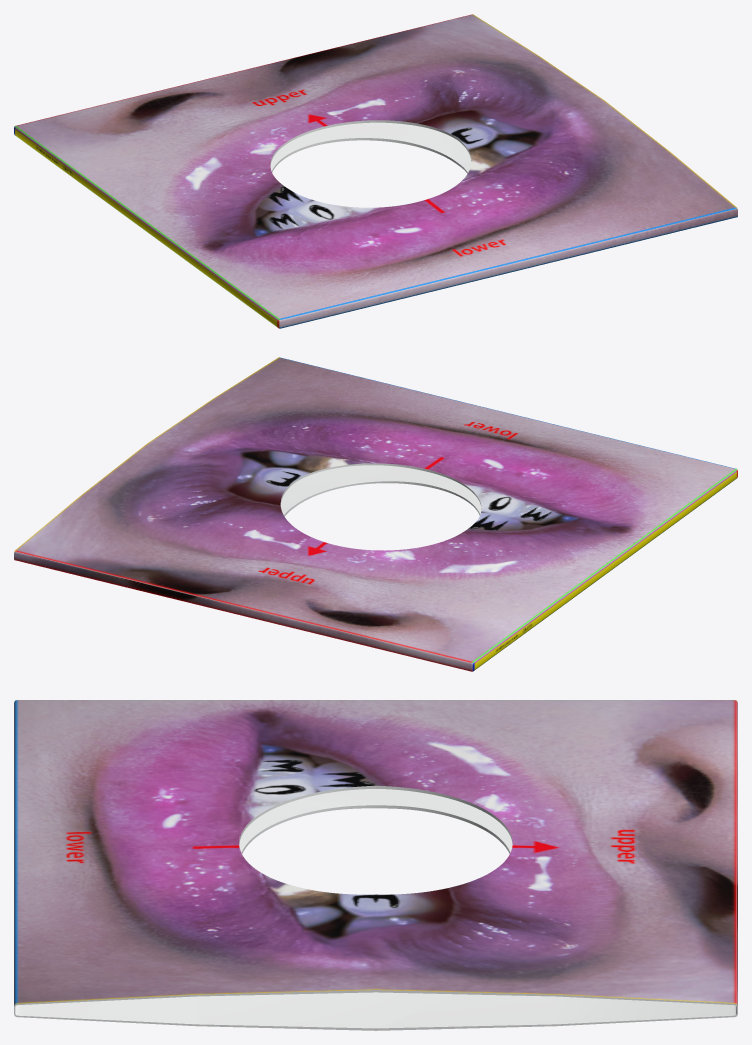
The model's file is sleeve_10_double_holed.dae.
3 views of the same model, one above another, from view 1: azimuth 30°, elevation 25°; view 2: azimuth 150°, elevation 25°; view 3: azimuth 270°, elevation 25° (orthographic). The views are drawn at different scales.
Visible parts, largest first — view 1: sleeve; view 2: sleeve; view 3: sleeve.
Boxes of the visible parts, left/top/right/bottom form: sleeve: left=14, top=14, right=737, bottom=328; sleeve: left=14, top=357, right=737, bottom=671; sleeve: left=14, top=700, right=737, bottom=1030.
Size of the model in its own units: 26.38 by 1.65 by 26.48.
Materials: 1 (1 with a texture image).
